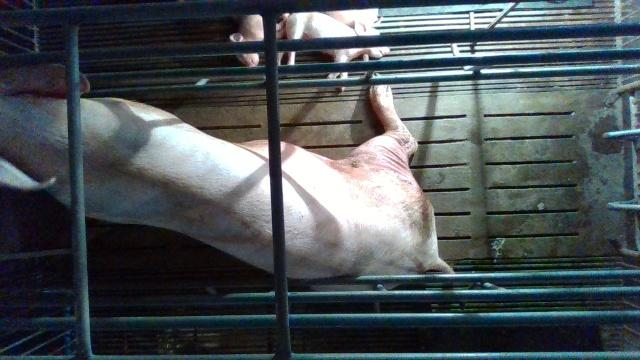piglet: (283, 12, 389, 93), (230, 15, 286, 67)
sow-sit: (2, 61, 454, 291)
